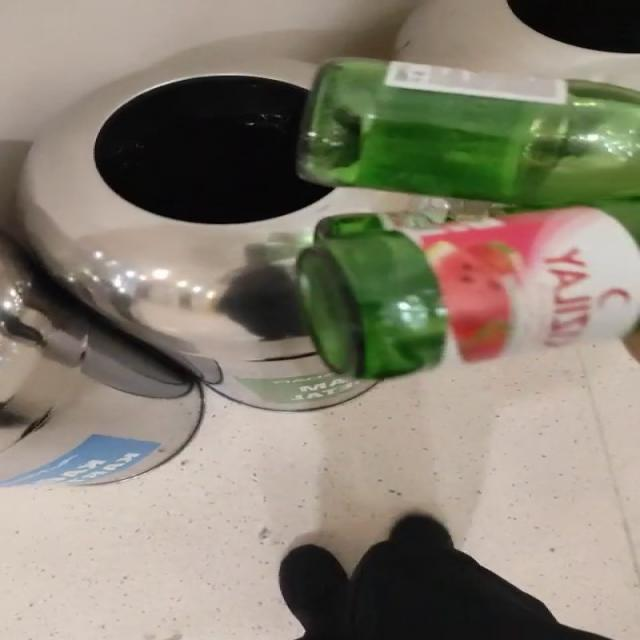bin: (0, 47, 419, 487)
glass: (297, 58, 640, 380)
